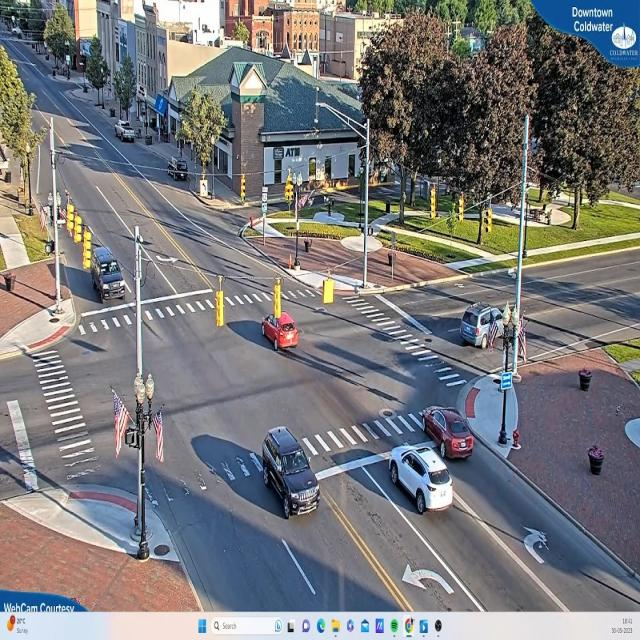car: (260, 428, 318, 519), (388, 443, 455, 516), (422, 409, 475, 462), (460, 304, 510, 346), (90, 249, 125, 298), (261, 314, 300, 354), (116, 123, 136, 143)
